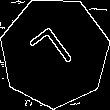L_SE: (27, 23, 82, 82)
